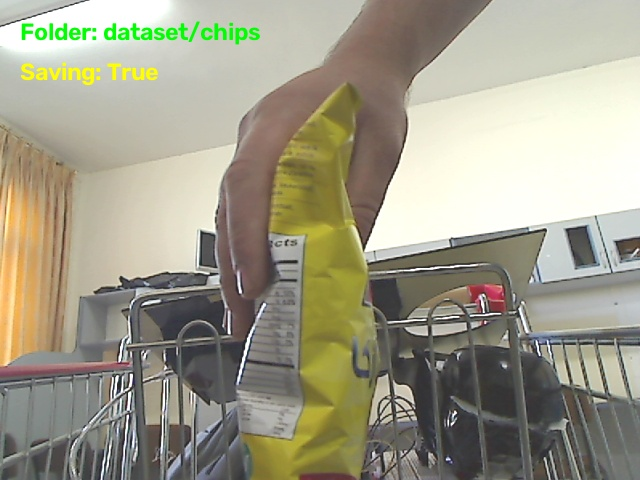chips: (237, 84, 378, 479)
